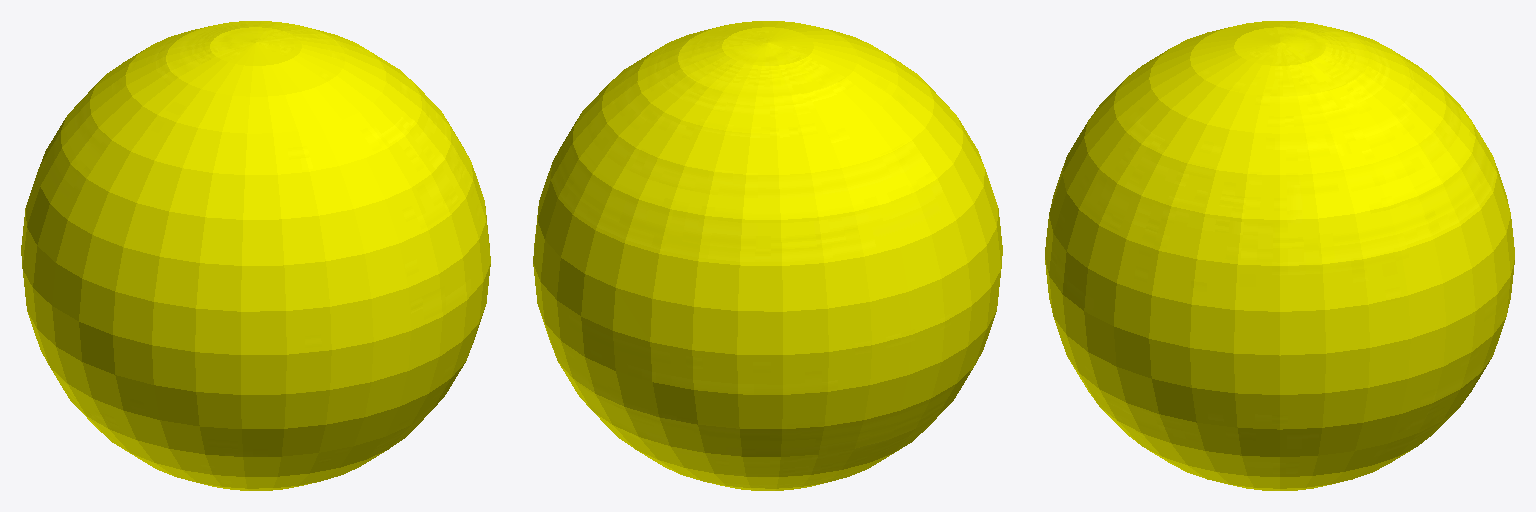
3 renders of one model, left to right at view 1: azimuth 30°, elevation 25°; view 2: azimuth 150°, elevation 25°; view 3: azimuth 270°, elevation 25°, orthographic.
Visible parts, largest first — view 1: 球; view 2: 球; view 3: 球.
Boxes of the visible parts, x1,y1,x2,y2 form: 球: [21, 21, 490, 490]; 球: [533, 21, 1002, 490]; 球: [1045, 21, 1514, 490].
Bounding box in the file's own units: 8.31 × 8.31 × 8.31.
1 materials, 1 textured.